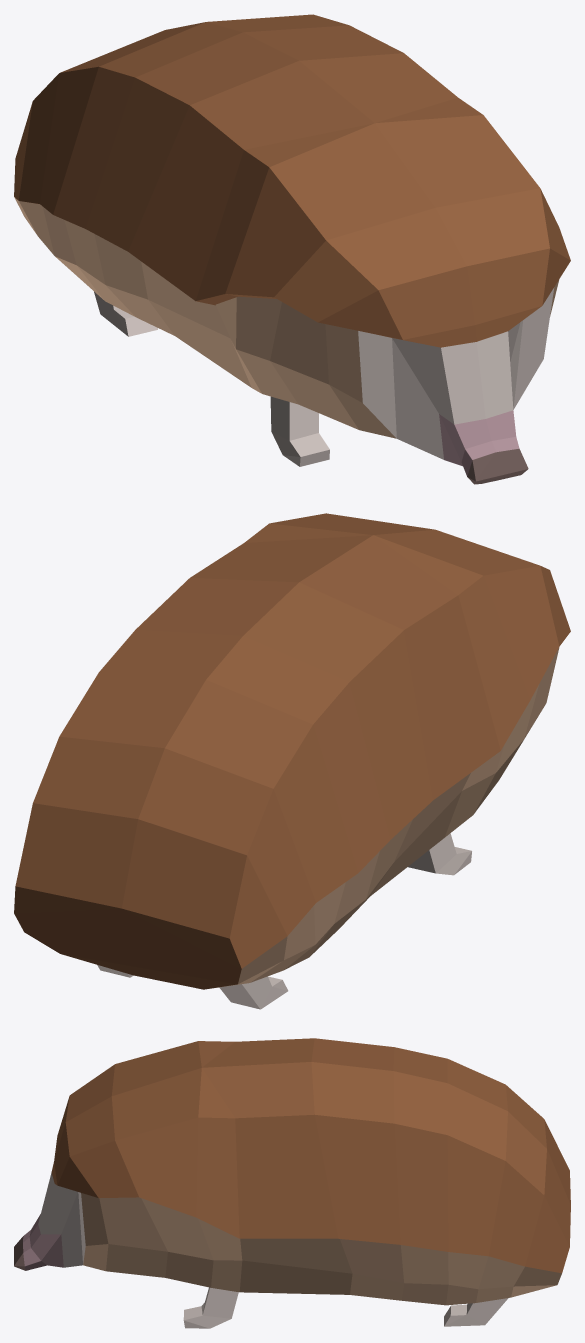
Rendered from Hedgehog.fbx.
The picture shows the model from 3 angles, top to bottom: view 1: azimuth 30°, elevation 25°; view 2: azimuth 150°, elevation 25°; view 3: azimuth 270°, elevation 25°; orthographic projection. The views are drawn at different scales.
Visible parts, largest first — view 1: Cube; view 2: Cube; view 3: Cube.
Boxes of the visible parts, x1=… form: Cube: x1=14, y1=14, x2=570, y2=484; Cube: x1=14, y1=513, x2=570, y2=1009; Cube: x1=14, y1=1038, x2=570, y2=1328.
Size of the model in its own units: 200 by 202 by 432.
